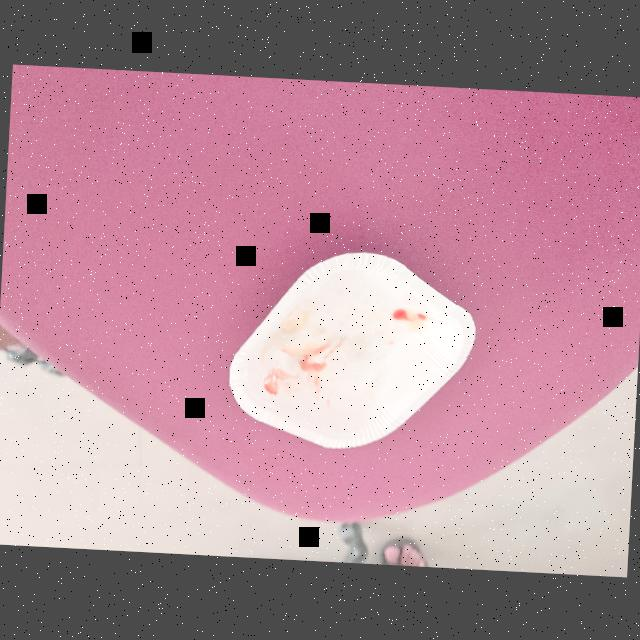cardboard_bowl: (219, 227, 488, 463)
